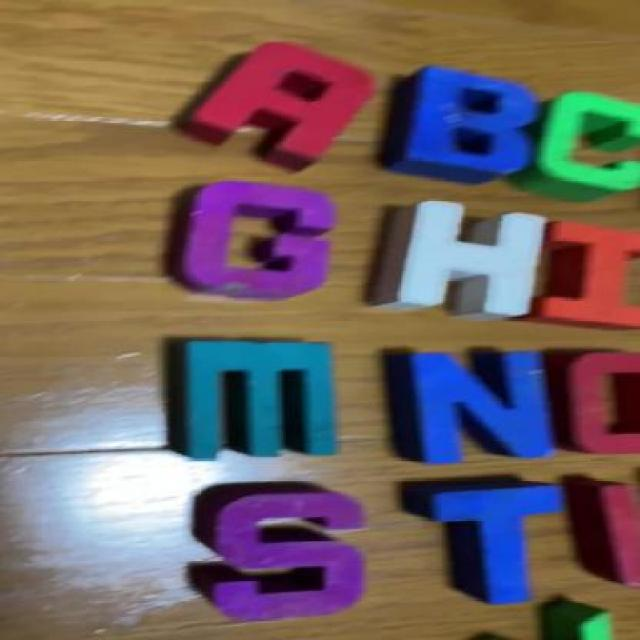A: (183, 40, 379, 168)
B: (394, 74, 538, 183)
C: (530, 91, 639, 195)
G: (174, 179, 340, 296)
H: (376, 201, 538, 327)
I: (544, 216, 638, 336)
M: (178, 337, 339, 465)
N: (394, 356, 566, 466)
S: (208, 484, 370, 614)
T: (413, 485, 561, 606)
